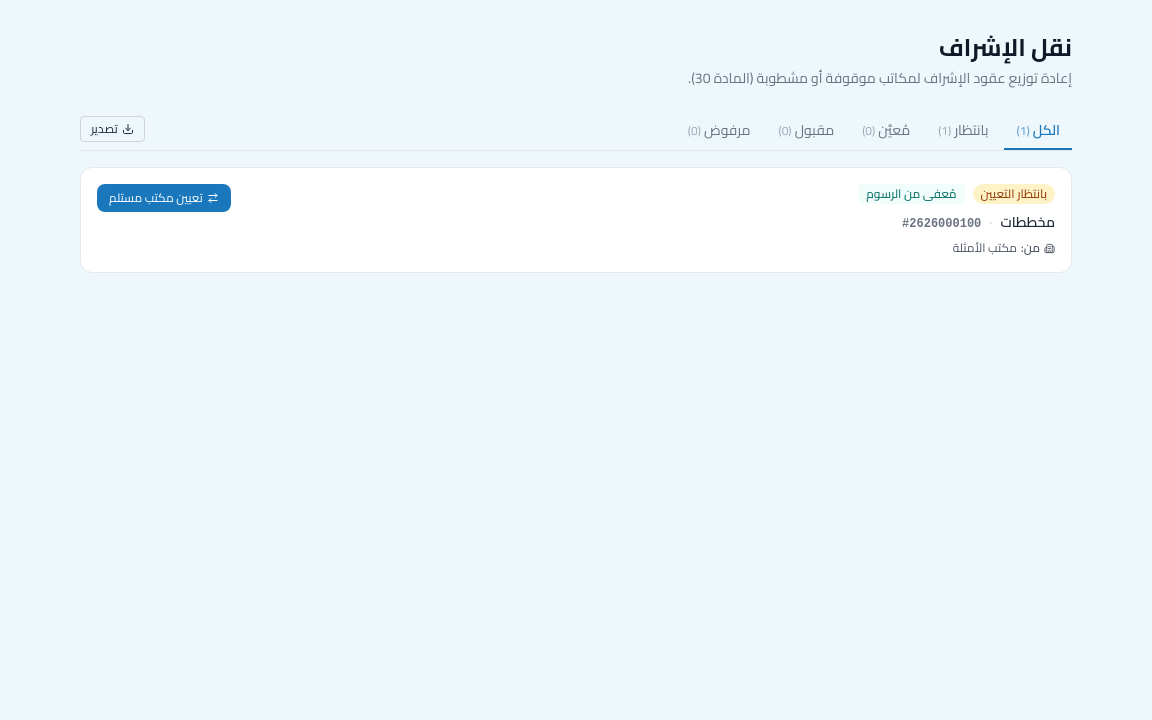
SupervisionTransfersAdmin (JORD-83 UI) › assign submit blocked when no target picked
The width and height of the screenshot is (1152, 720).
Click the button with test id "assign-btn-1" at {"x": 164, "y": 198}, box [97, 184, 231, 212]
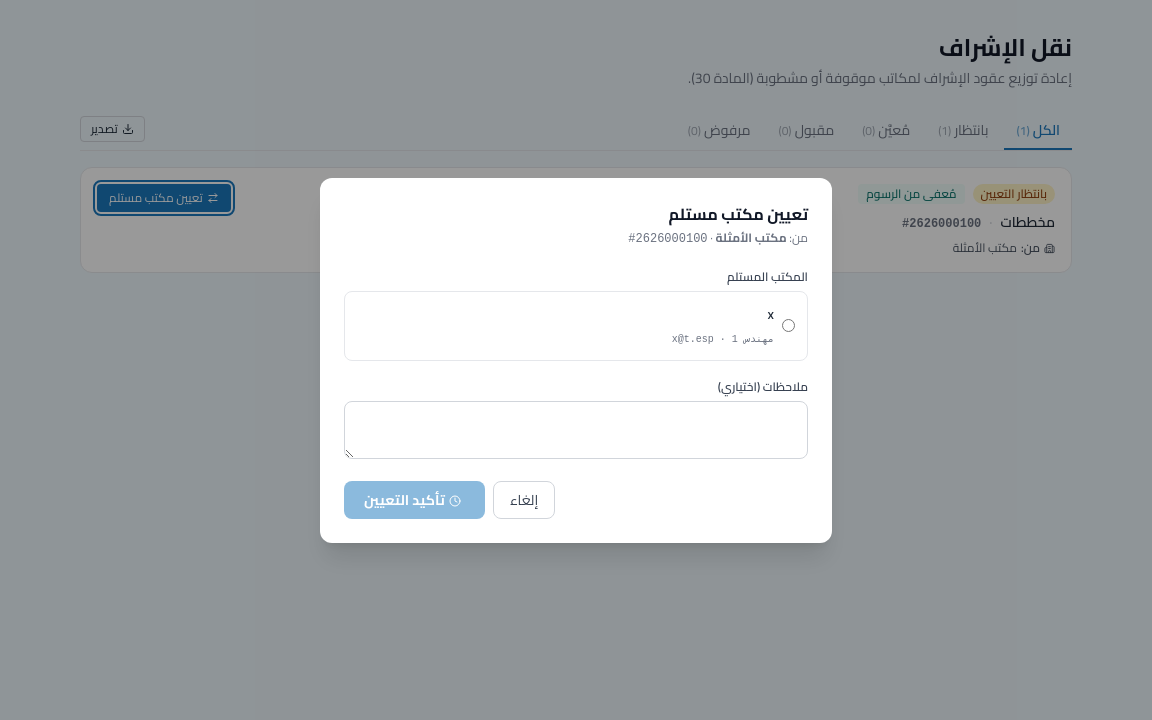
Check: the button with test id "assign-submit" is disabled, box [344, 480, 485, 518]
